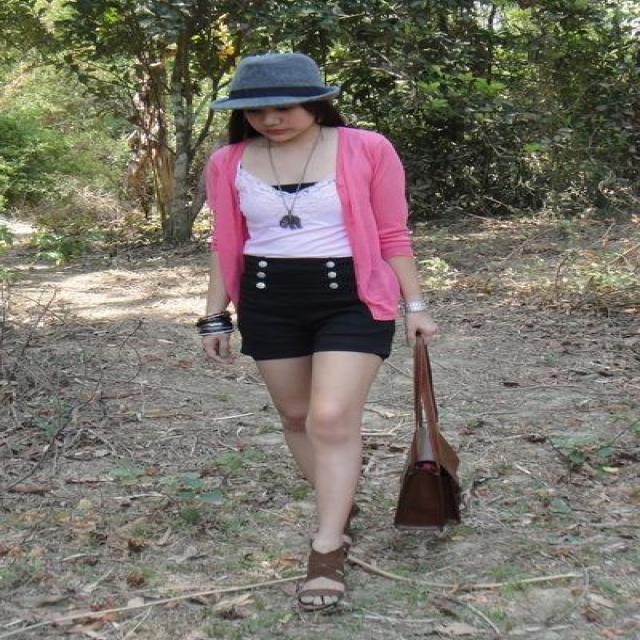bag: (394, 330, 466, 528)
hat: (214, 46, 344, 114)
jacket: (190, 127, 421, 319)
shirt: (236, 166, 350, 257)
shoe: (298, 550, 362, 623)
shorts: (216, 256, 394, 359)
